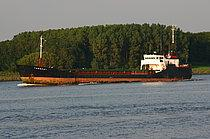Ship: (14, 49, 195, 85)
